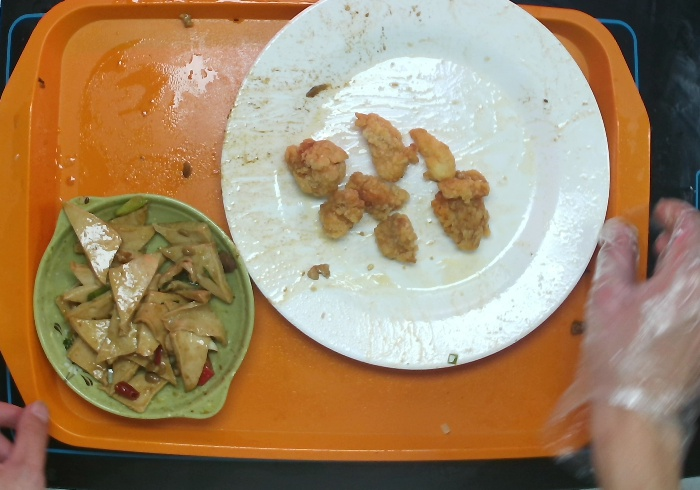NLDX-Da_Yuan_Pan: (219, 1, 613, 373)
NLDX-Lv_Hua_Shuang_Er_Die: (31, 190, 258, 426)
